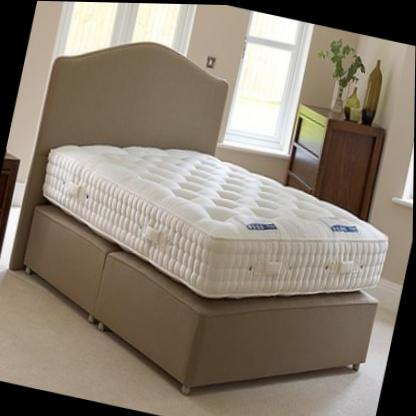Bed: (0, 18, 416, 416)
